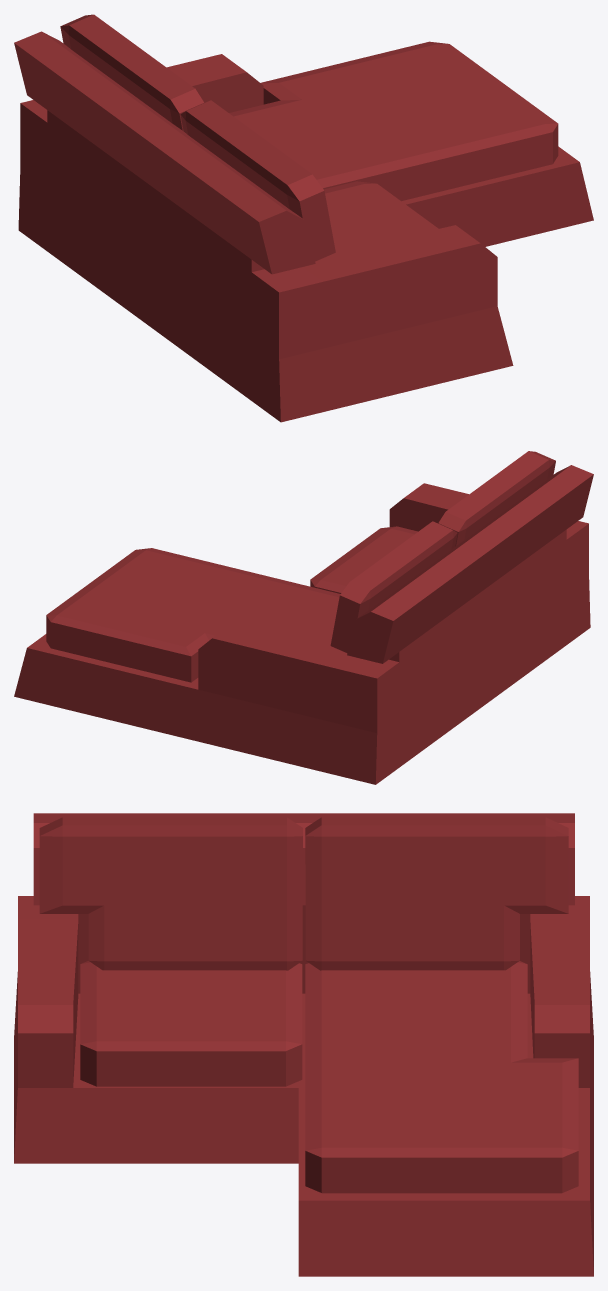
Rendered from quaternius-furniture-sofalong.glb.
3 views of the same model, one above another, from view 1: azimuth 30°, elevation 25°; view 2: azimuth 150°, elevation 25°; view 3: azimuth 270°, elevation 25° (orthographic). The views are drawn at different scales.
Visible parts, largest first — view 1: SofaLong; view 2: SofaLong; view 3: SofaLong.
Part boxes in pixels (x1,y1,x2,y2): SofaLong: [14, 14, 593, 422]; SofaLong: [14, 451, 593, 784]; SofaLong: [14, 813, 593, 1276].
Size of the model in its own units: 1.37 by 0.6276 by 1.36.
